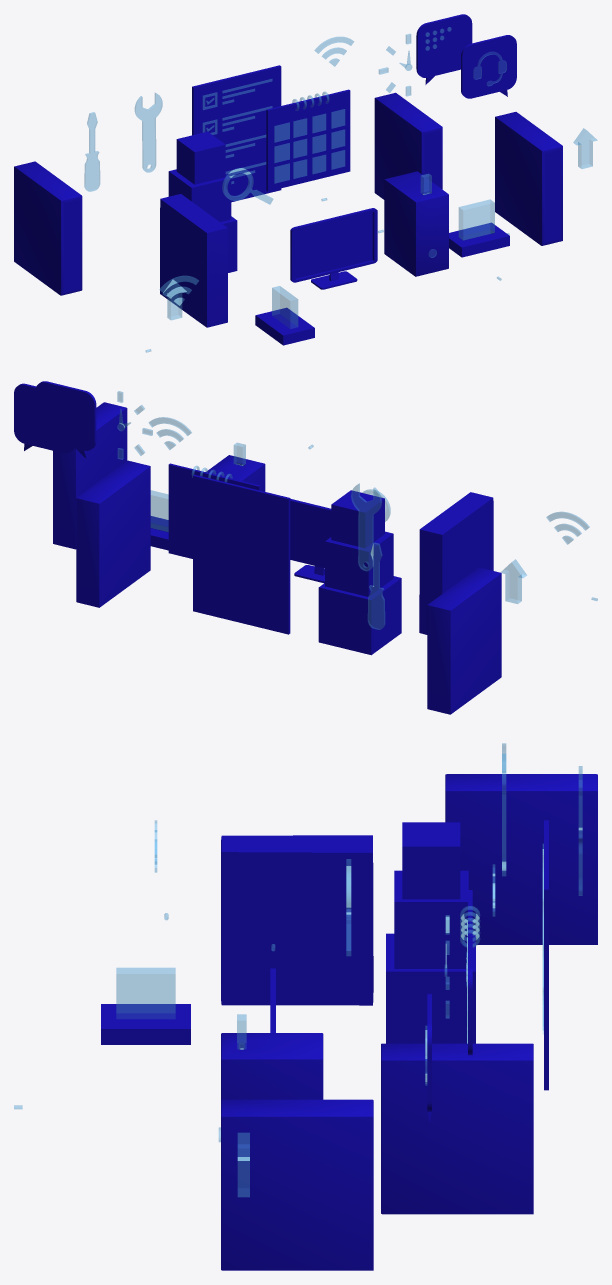
The model's file is only_objects.glb.
3 views of the same model, one above another, from view 1: azimuth 30°, elevation 25°; view 2: azimuth 150°, elevation 25°; view 3: azimuth 270°, elevation 25° (orthographic). The views are drawn at different scales.
Visible parts, largest first — view 1: Cube.032, Cube.093, Cube.098, Cube.033, Cube.092, box.001, Cube.031, Cube.077, Cube.039, Cube.083, Cube.089, Cube.094 (+15 smaller); view 2: Cube.093, Cube.031, Cube.032, Cube.033, Cube.098, Cube.097, Cube.089, Cube.096, Cube.092, Cube.094, Cube.077, Cube.083 (+9 smaller); view 3: Cube.098, Cube.031, Cube.033, Cube.032, box.001, Cube.097, Cube.096, Cube.094, Cube.080, Cube.079, Cube.093, Cube.001.
Part boxes in pixels (box(x1,y1,x2,y2)): Cube.032: box(14, 161, 82, 295); Cube.093: box(192, 65, 281, 202); Cube.098: box(495, 112, 562, 245); Cube.033: box(160, 194, 227, 327); Cube.092: box(266, 89, 350, 191); box.001: box(384, 171, 448, 276); Cube.031: box(374, 92, 442, 199); Cube.077: box(290, 208, 377, 282); Cube.039: box(274, 109, 345, 183); Cube.083: box(461, 35, 516, 98); Cube.089: box(416, 14, 472, 84); Cube.094: box(176, 131, 225, 184); Cube.093: box(193, 474, 290, 634); Cube.031: box(76, 460, 150, 607); Cube.032: box(427, 567, 501, 714); Cube.033: box(419, 492, 493, 634); Cube.098: box(53, 402, 127, 549); Cube.097: box(318, 576, 401, 655); Cube.089: box(35, 381, 96, 458); Cube.096: box(325, 531, 393, 596); Cube.092: box(168, 463, 260, 558); Cube.094: box(331, 490, 384, 547); Cube.077: box(290, 498, 331, 568); Cube.083: box(14, 383, 73, 453); Cube.098: box(221, 1099, 373, 1270); Cube.031: box(381, 1043, 533, 1214); Cube.033: box(221, 835, 373, 1005); Cube.032: box(445, 774, 597, 944); box.001: box(221, 1033, 323, 1099); Cube.097: box(386, 933, 475, 1043); Cube.096: box(394, 870, 468, 968); Cube.094: box(402, 822, 460, 899); Cube.080: box(101, 1004, 190, 1044); Cube.079: box(116, 967, 175, 1018); Cube.093: box(544, 820, 548, 1090); Cube.001: box(237, 1132, 249, 1197).
Bounding box in the file's own units: 17.32 × 6.2 × 11.41.
